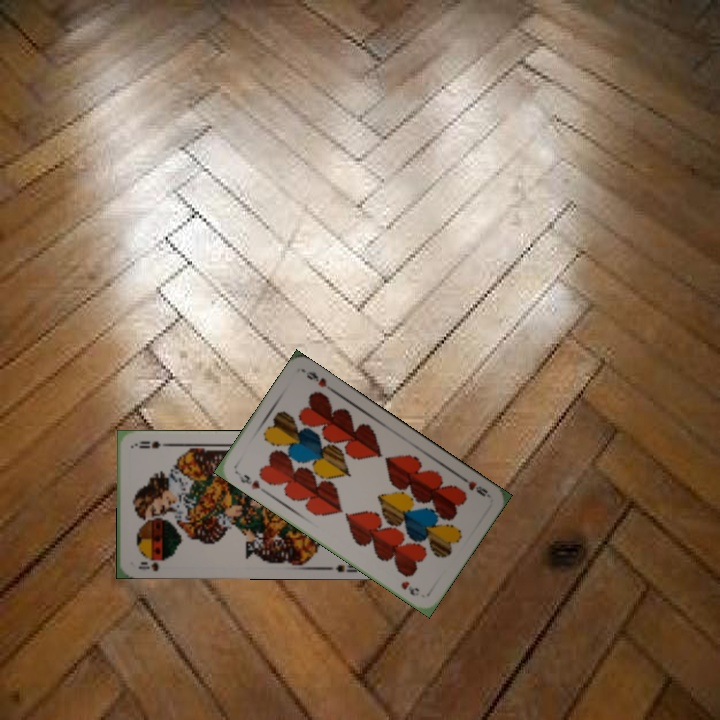H9: (456, 472, 492, 500), (232, 467, 263, 493)
SO: (134, 558, 161, 573)
